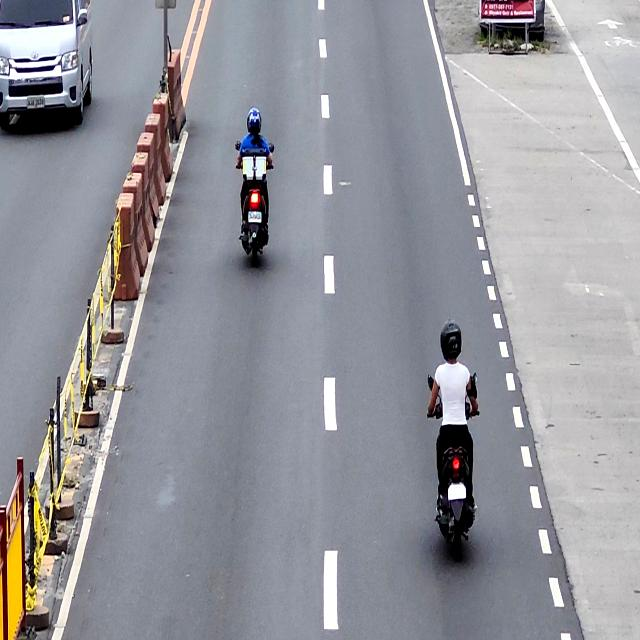License-Plate: (448, 482, 467, 502), (247, 211, 263, 225)
Motorcycle: (428, 374, 478, 562), (236, 136, 274, 264)
